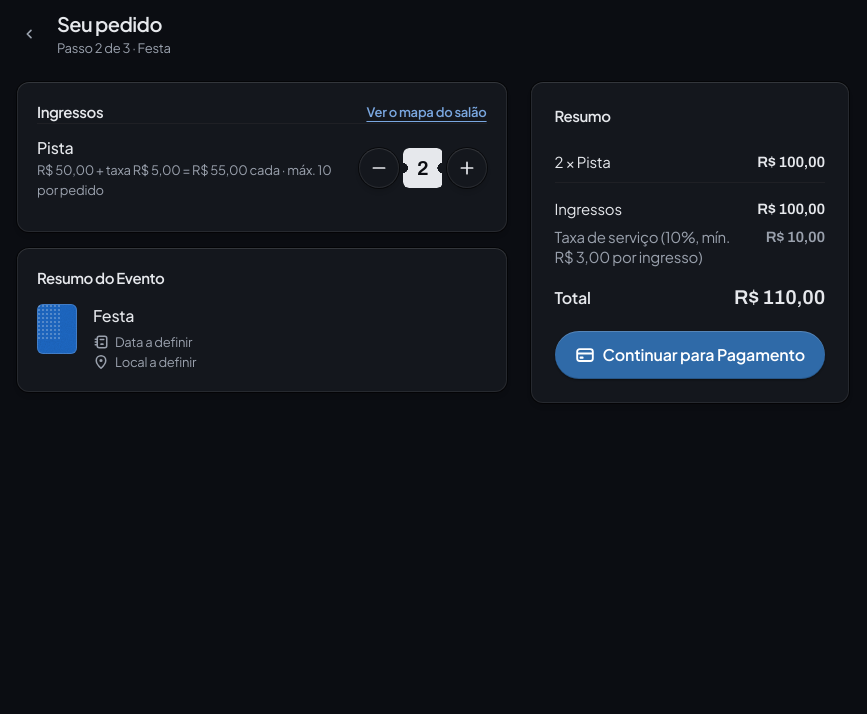
Checkout com mapa de assentos (lugar marcado) › só lê mapa ativo; abre na seleção rápida e o carrinho da página do evento não é zerado, com ou sem o mapa na tela
Expected: the 1st text "R$ 100,00" is shown, [757,152,825,172]
Click the button "Ver o mapa do salão" at (426, 112), box [366,102,487,123]
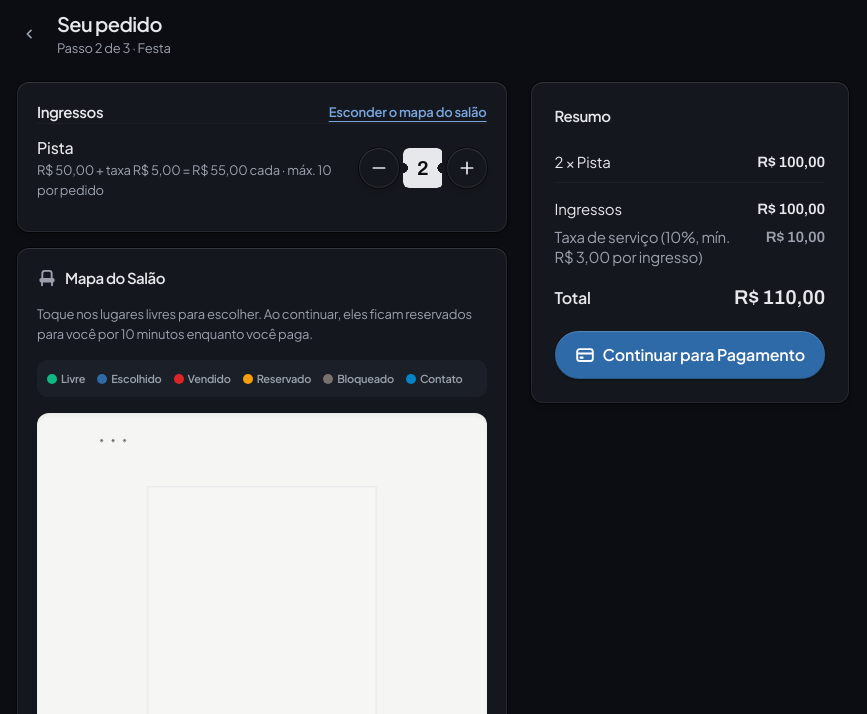
Expected: the 1st text "R$ 100,00" is shown, [757,152,825,172]
Expected: the text "reservados para você por 10 minutos" is shown, [37,306,472,342]
